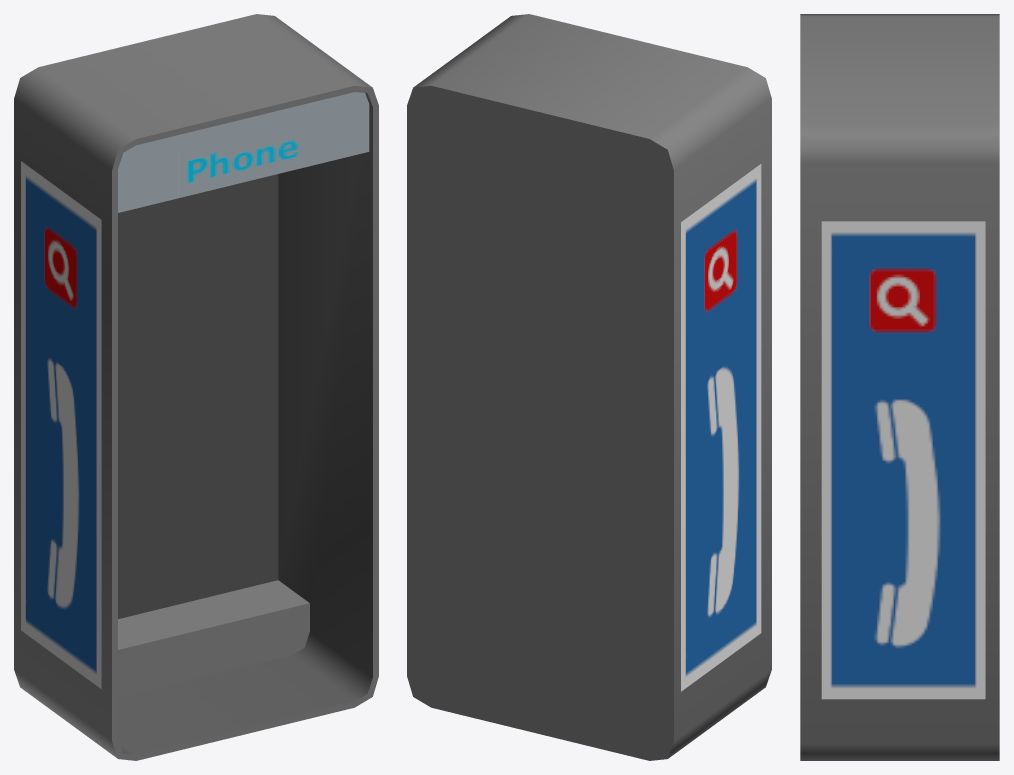
The model's file is SW_PROP_PublicPhone_Surround.fbx.
3 renders of one model, left to right at view 1: azimuth 30°, elevation 25°; view 2: azimuth 150°, elevation 25°; view 3: azimuth 270°, elevation 25°, orthographic.
Visible parts, largest first — view 1: SW_PROP_PublicPhone_Surround; view 2: SW_PROP_PublicPhone_Surround; view 3: SW_PROP_PublicPhone_Surround.
Part boxes in pixels (box(x1,y1,x2,y2)): SW_PROP_PublicPhone_Surround: box(14, 14, 378, 760); SW_PROP_PublicPhone_Surround: box(407, 14, 771, 760); SW_PROP_PublicPhone_Surround: box(800, 14, 999, 760).
Bounding box in the file's own units: 0.4402 × 0.98 × 0.28.
